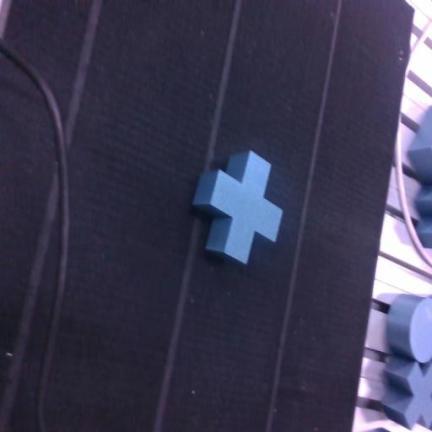cross: (194, 152, 282, 263), (383, 357, 431, 428)
